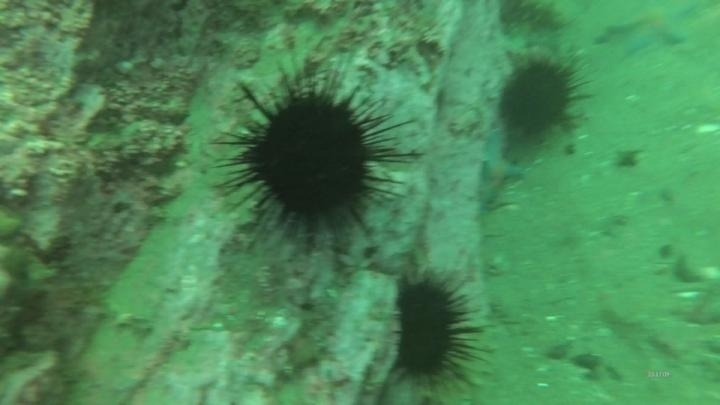echinus: (214, 72, 409, 244), (389, 270, 489, 390), (495, 53, 588, 144)
holothurian: (498, 0, 571, 34)
starfish: (601, 2, 703, 60), (473, 126, 528, 216)
